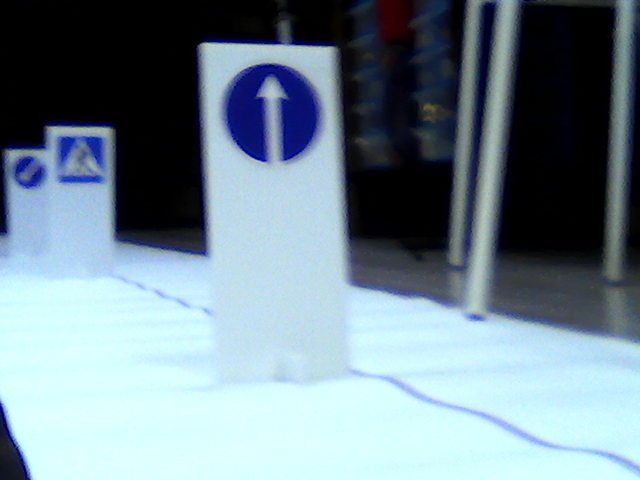forw: (222, 60, 321, 169)
pesh: (54, 135, 108, 184)
prep: (11, 157, 46, 188)
